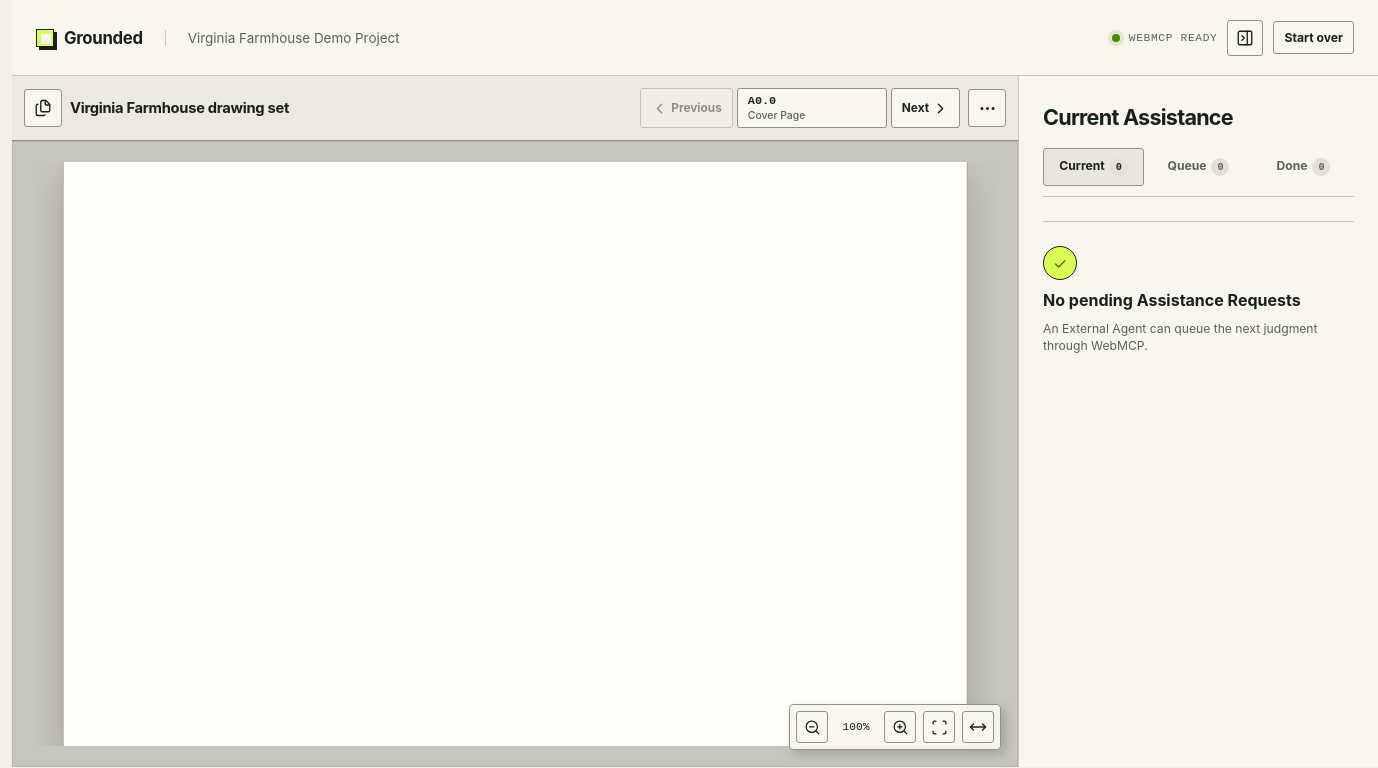
Test: invalid navigate_document identities do not change the visible workbench
The image size is (1378, 768).
expect the text "WebMCP ready" is shown: met, box [1129,32,1217,44]
Click the button named "Fit width": [978, 727] box [962,711,994,743]
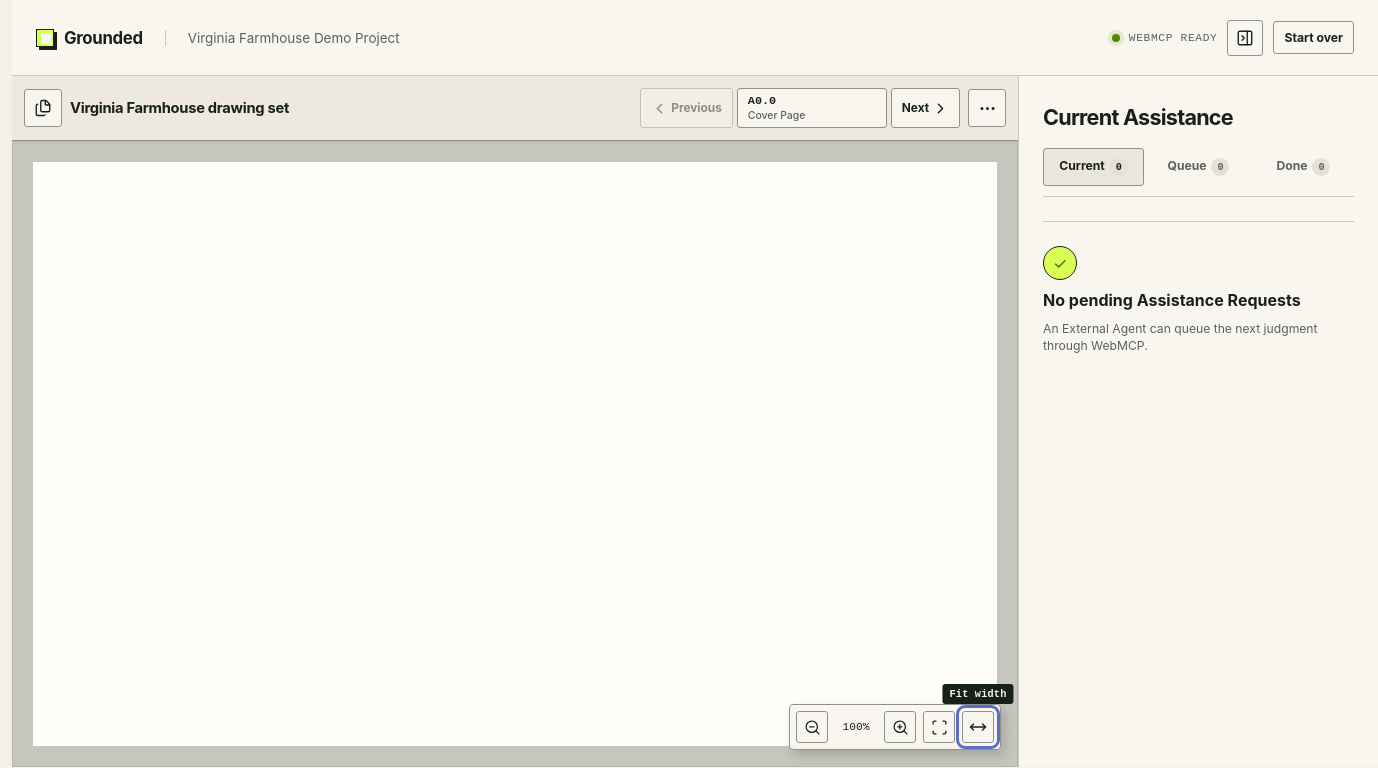
Click the button named "Zoom in": [900, 727] box [884,711,916,743]
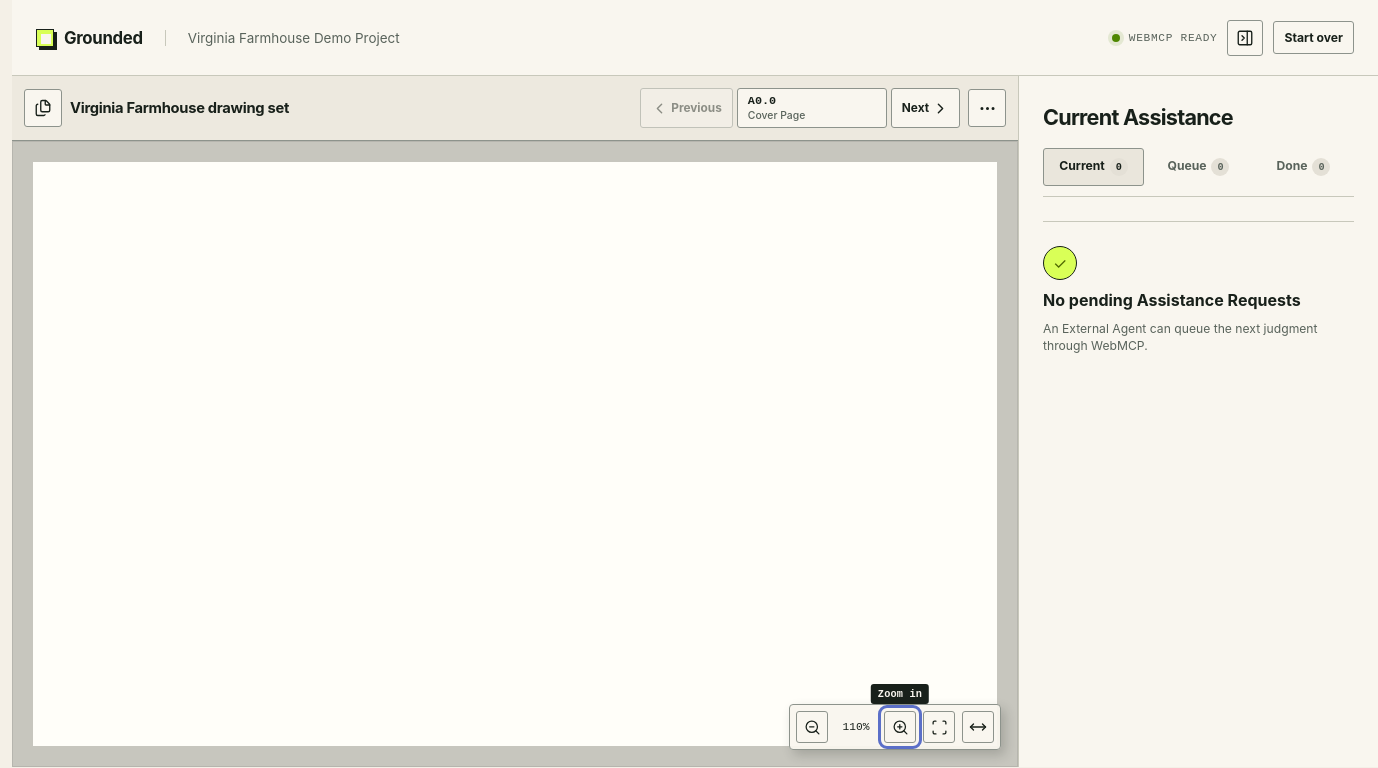
expect the text "110%" is shown: met, box [843,721,870,733]
